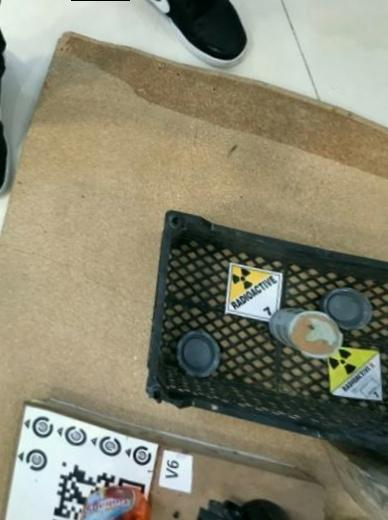radioactive: (226, 264, 285, 326), (327, 347, 385, 407)
